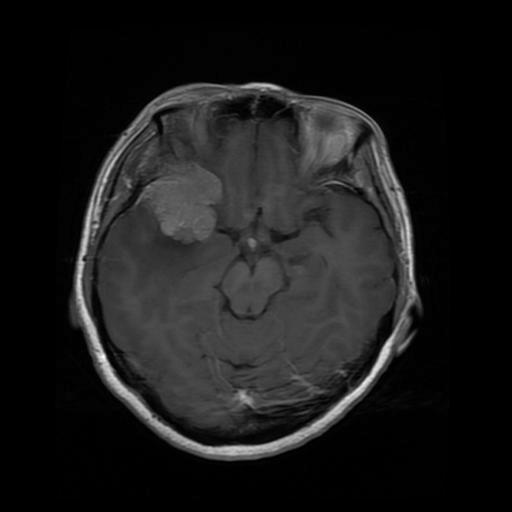Tumour-Pituitary: (129, 155, 235, 249)
